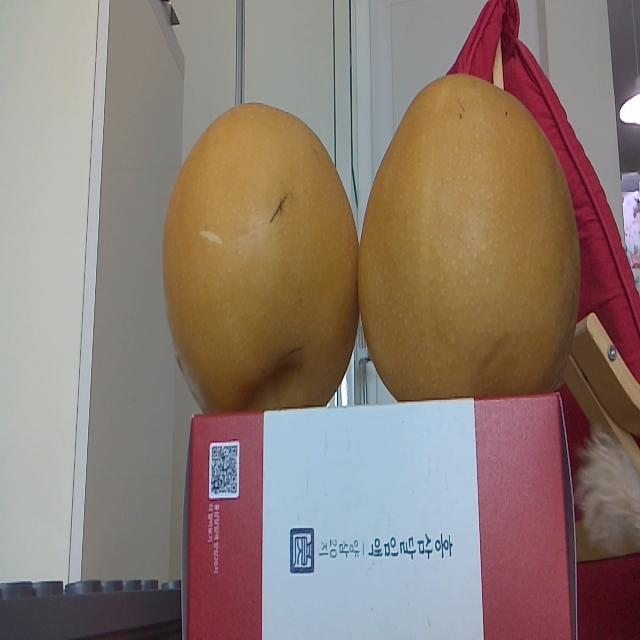pear: (358, 55, 584, 402), (158, 90, 358, 410)
